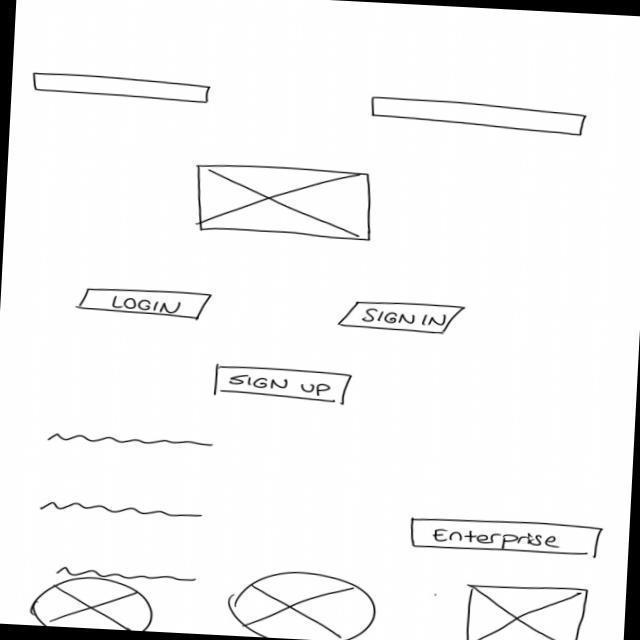button: (410, 515, 605, 560), (213, 365, 357, 408), (76, 285, 216, 323), (337, 299, 469, 337)
image: (192, 162, 378, 245), (225, 568, 380, 640), (462, 579, 591, 640), (29, 575, 157, 633)
input: (370, 95, 590, 140), (32, 73, 214, 108)
text: (44, 432, 217, 454), (37, 500, 205, 522), (55, 566, 199, 584)
